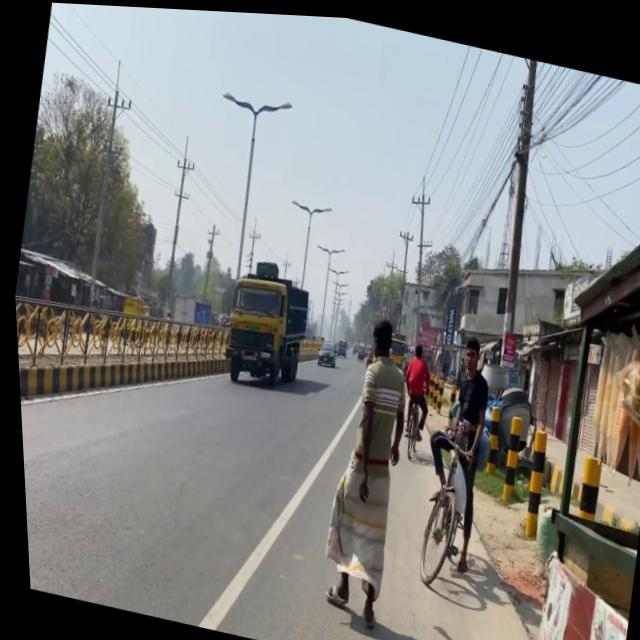Fallen-tree: (311, 337, 335, 365)
Garbage-bin: (297, 306, 425, 627), (399, 323, 502, 570), (389, 336, 436, 438)
Light-pole: (468, 50, 559, 363)
Pothole: (300, 354, 578, 640)
Traffic-cone: (211, 250, 316, 393)
